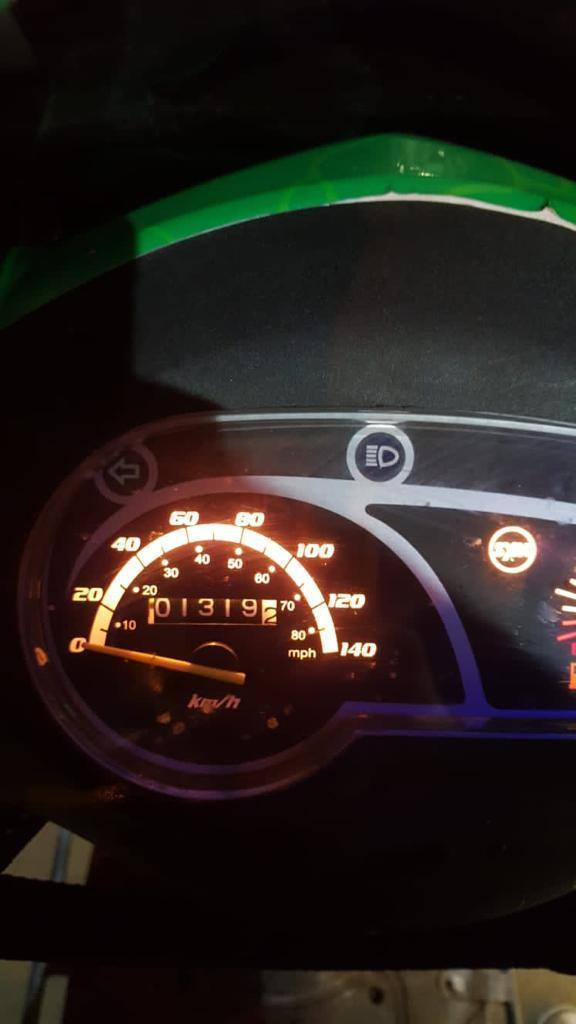0: (153, 596, 171, 618)
1: (221, 597, 233, 619), (179, 596, 190, 617)
2: (262, 605, 277, 624)
3: (196, 597, 216, 617)
9: (239, 598, 259, 618)
odometer: (144, 593, 280, 629)
